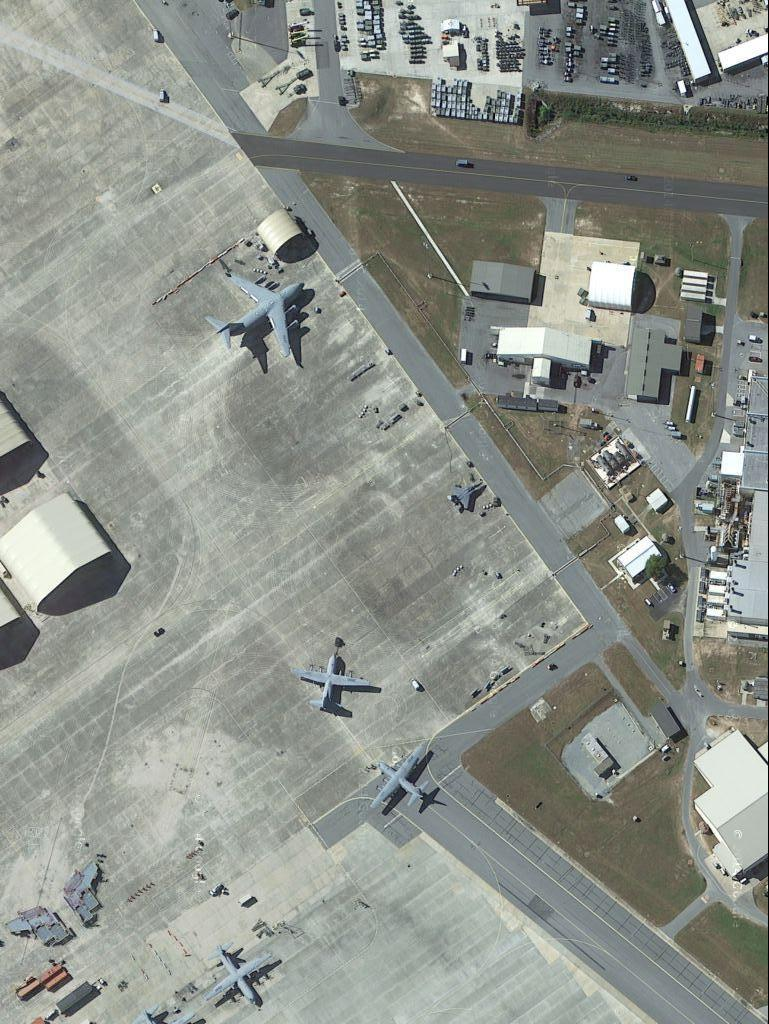C-130: (292, 646, 378, 719), (362, 742, 441, 819), (202, 944, 286, 1009)
C-17: (208, 265, 311, 365)
